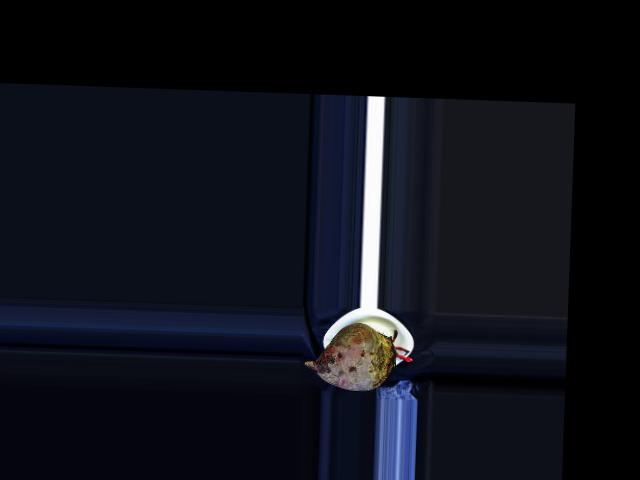beet: (304, 321, 414, 391)
